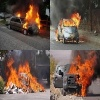fire: (6, 60, 46, 92), (68, 53, 96, 97), (56, 13, 82, 43), (22, 4, 42, 30), (17, 12, 20, 16)
